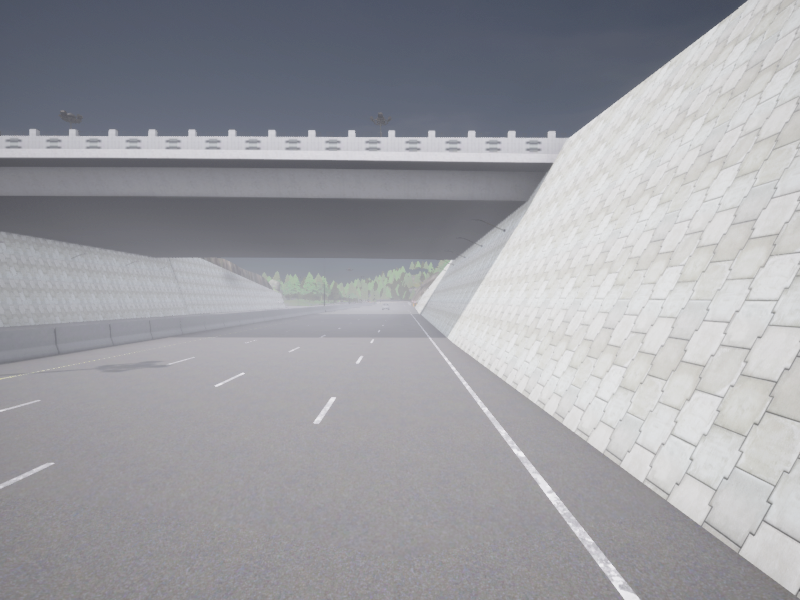vehicle: (382, 304, 389, 309)
